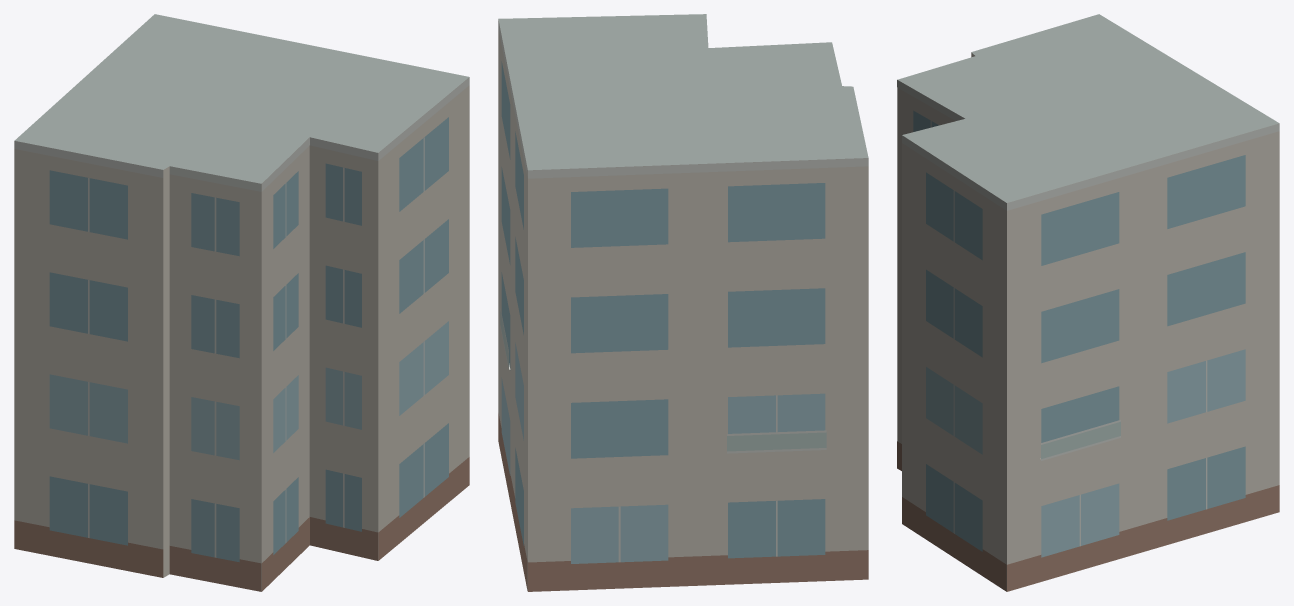
The model's file is survey-upis-32787838.glb.
3 views of the same model, side by side, from view 1: azimuth 30°, elevation 25°; view 2: azimuth 150°, elevation 25°; view 3: azimuth 270°, elevation 25° (orthographic). The views are drawn at different scales.
Parts seen in each view (by area): view 1: survey-upis-32787838.tmp; view 2: survey-upis-32787838.tmp; view 3: survey-upis-32787838.tmp.
Part boxes in pixels (x1,y1,x2,y2): survey-upis-32787838.tmp: (14, 14, 469, 591); survey-upis-32787838.tmp: (498, 14, 868, 591); survey-upis-32787838.tmp: (897, 14, 1279, 591).
Size of the model in its own units: 12.74 by 12.2 by 10.89.
